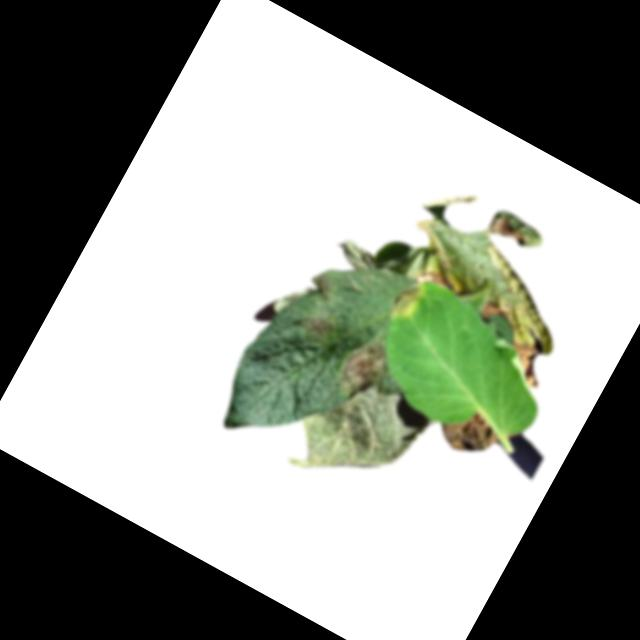Late_blight: (433, 398, 508, 467), (334, 334, 393, 402), (497, 335, 555, 390), (386, 275, 430, 326), (296, 304, 343, 349), (487, 212, 532, 250), (415, 265, 454, 296), (479, 299, 510, 328), (310, 275, 335, 302)
